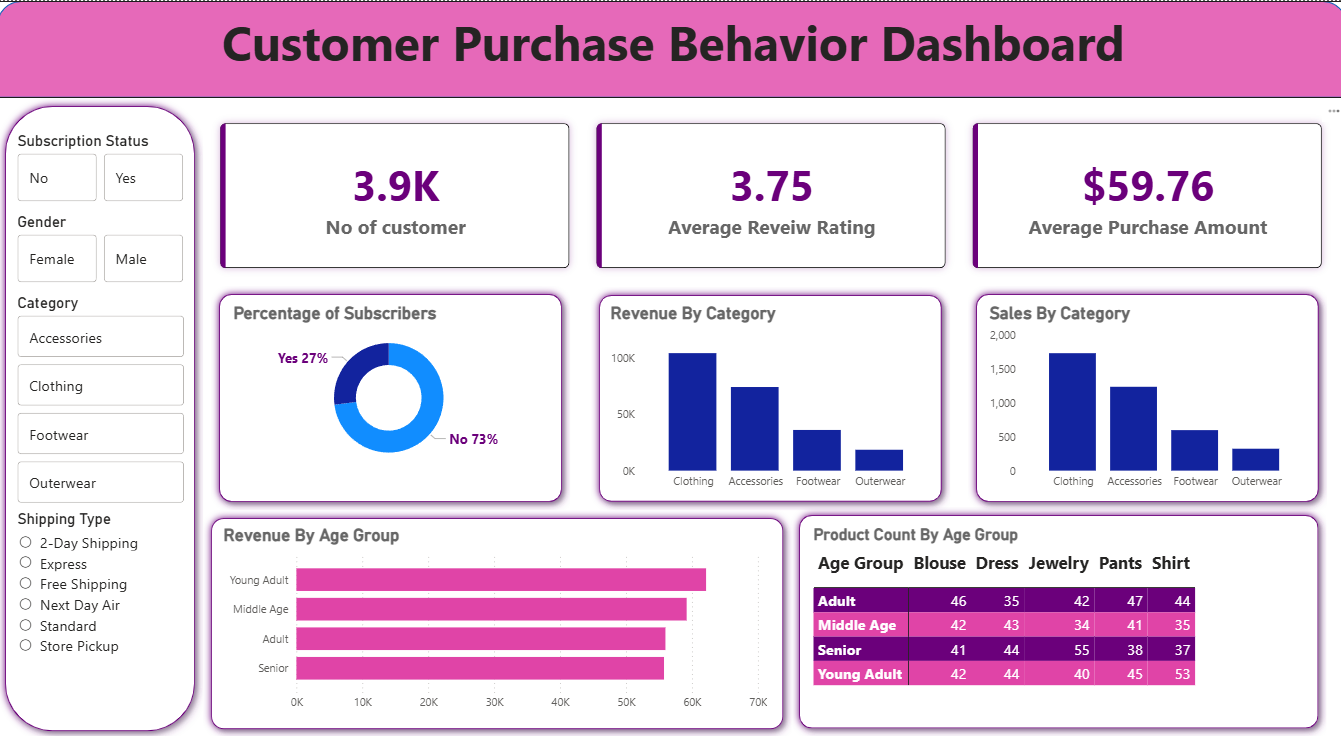

What the dashboard file says about the page in this screenshot:
{"tool":"powerbi","page":{"name":"Page 1","canvas":[1500,820],"ordinal":0},"visuals":[{"type":"cardVisual","fields":{"Data":["public customer.No of customer","public customer.Average reveiw rating","public customer.Average purchase amount"]},"box":[220,107.5,1280,217.5],"z":0},{"type":"shape","box":[0,0,1500,107.5],"z":1000},{"type":"textbox","box":[237.5,3.8,1027.5,112.5],"z":2000},{"type":"shape","box":[237.5,316.2,398.8,248.8],"z":3000},{"type":"donutChart","title":"Percentage of Subscribers","fields":{"Y":["public customer.No of customer"],"Category":["public customer.subscription_status"]},"box":[257.5,335,355,188.8],"z":4000},{"type":"shape","box":[660,317.5,398.8,247.5],"z":5000},{"type":"shape","box":[1078.8,316.2,398.8,248.8],"z":6000},{"type":"clusteredColumnChart","title":"Revenue By Category","fields":{"Category":["public customer.category"],"Y":["Sum(public customer.purchase_amount)"]},"box":[676.2,335,365,216.2],"z":7000},{"type":"clusteredColumnChart","title":"Sales By Category","fields":{"Category":["public customer.category"],"Y":["Count(public customer.customer_id)"]},"box":[1097.5,335,361.2,216.2],"z":8000},{"type":"shape","box":[0,107.5,228.8,712.5],"z":9000},{"type":"advancedSlicerVisual","fields":{"Values":["public customer.subscription_status"]},"box":[17.5,145,195,82.5],"z":10000},{"type":"advancedSlicerVisual","fields":{"Values":["public customer.gender"]},"box":[17.5,235,195,82.5],"z":11000},{"type":"advancedSlicerVisual","fields":{"Values":["public customer.category"]},"box":[17.5,325,195,240],"z":12000},{"type":"listSlicer","fields":{"Values":["public customer.shipping_type"]},"box":[17.5,565,195,212.5],"z":13000},{"type":"shape","box":[228.8,565,653.8,252.5],"z":14000},{"type":"clusteredBarChart","title":"Revenue  By Age Group","fields":{"Category":["public customer.age_group"],"Y":["Sum(public customer.purchase_amount)"]},"box":[246.2,582.5,613.8,215],"z":15000},{"type":"shape","box":[882.5,562.5,595,255],"z":16000},{"type":"pivotTable","title":"Product Count By Age Group","fields":{"Columns":["public customer.item_purchased"],"Values":["CountNonNull(public customer.item_purchased)"],"Rows":["public customer.age_group"]},"box":[902.5,582.5,556.2,215],"z":17000}]}

Visuals, with their boxes in screenshot pixels (x1, y1, x2, y2), scaled from the page's 1500x820 canvas onto the 1341x736 screenshot:
cardVisual - public customer.No of customer x public customer.Average reveiw rating: bbox=(197, 96, 1340, 292)
shape: bbox=(0, 0, 1340, 96)
textbox: bbox=(212, 3, 1131, 104)
shape: bbox=(212, 284, 569, 507)
"Percentage of Subscribers" donutChart: bbox=(230, 301, 548, 470)
shape: bbox=(590, 285, 947, 507)
shape: bbox=(964, 284, 1321, 507)
"Revenue By Category" clusteredColumnChart: bbox=(605, 301, 931, 495)
"Sales By Category" clusteredColumnChart: bbox=(981, 301, 1304, 495)
shape: bbox=(0, 96, 205, 735)
advancedSlicerVisual - public customer.subscription_status: bbox=(16, 130, 190, 204)
advancedSlicerVisual - public customer.gender: bbox=(16, 211, 190, 285)
advancedSlicerVisual - public customer.category: bbox=(16, 292, 190, 507)
listSlicer - public customer.shipping_type: bbox=(16, 507, 190, 698)
shape: bbox=(205, 507, 789, 734)
"Revenue  By Age Group" clusteredBarChart: bbox=(220, 523, 769, 716)
shape: bbox=(789, 505, 1321, 734)
"Product Count By Age Group" pivotTable: bbox=(807, 523, 1304, 716)
